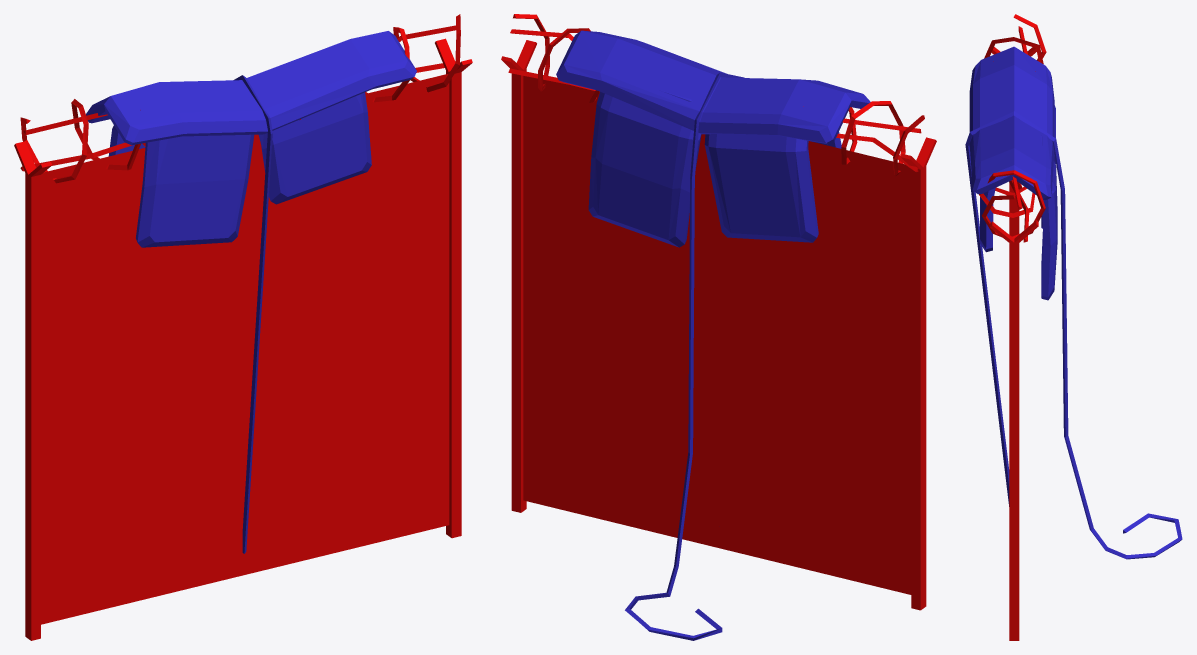
File: SM_fence3.fbx
The picture shows the model from 3 angles, left to right: view 1: azimuth 30°, elevation 25°; view 2: azimuth 150°, elevation 25°; view 3: azimuth 270°, elevation 25°; orthographic projection. The views are drawn at different scales.
Parts seen in each view (by area): view 1: fence3; view 2: fence3; view 3: fence3.
Boxes of the visible parts, x1,y1,x2,y2 form: fence3: [14, 14, 472, 640]; fence3: [501, 14, 936, 640]; fence3: [965, 14, 1182, 640].
Bounding box in the file's own units: 302 × 350 × 153.
